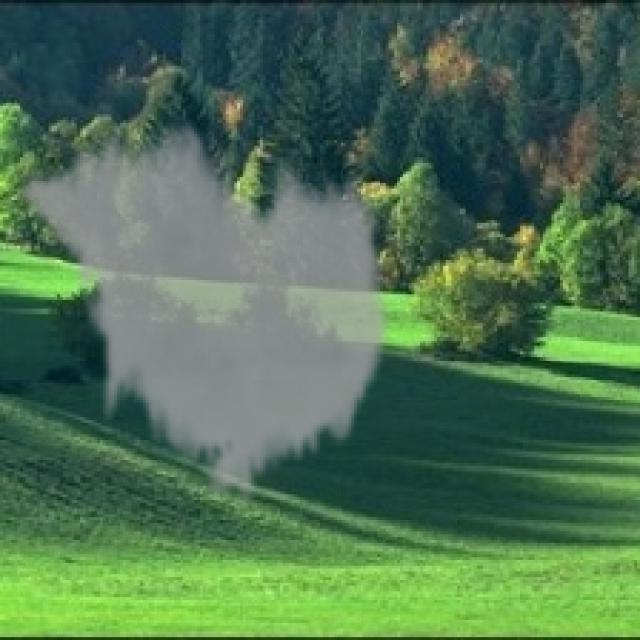smoke: (20, 109, 394, 508)
